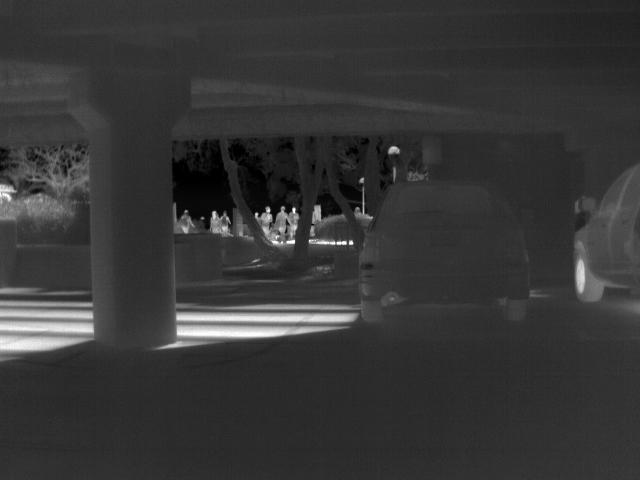car: (352, 180, 537, 323), (570, 158, 640, 304)
person: (273, 204, 291, 244), (257, 205, 275, 239), (176, 208, 195, 234), (287, 205, 300, 241), (207, 209, 223, 233), (219, 209, 232, 235)
